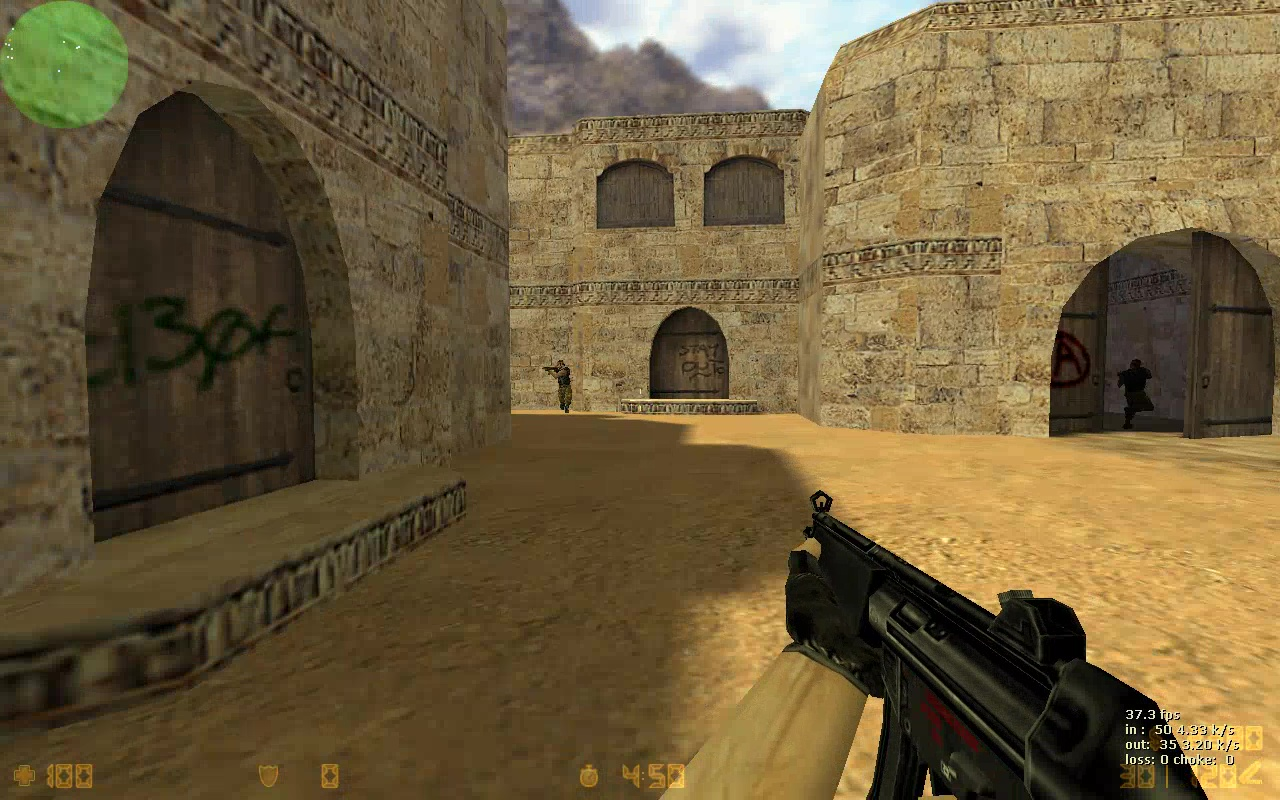terr1: (1109, 357, 1155, 431), (543, 359, 576, 413)
